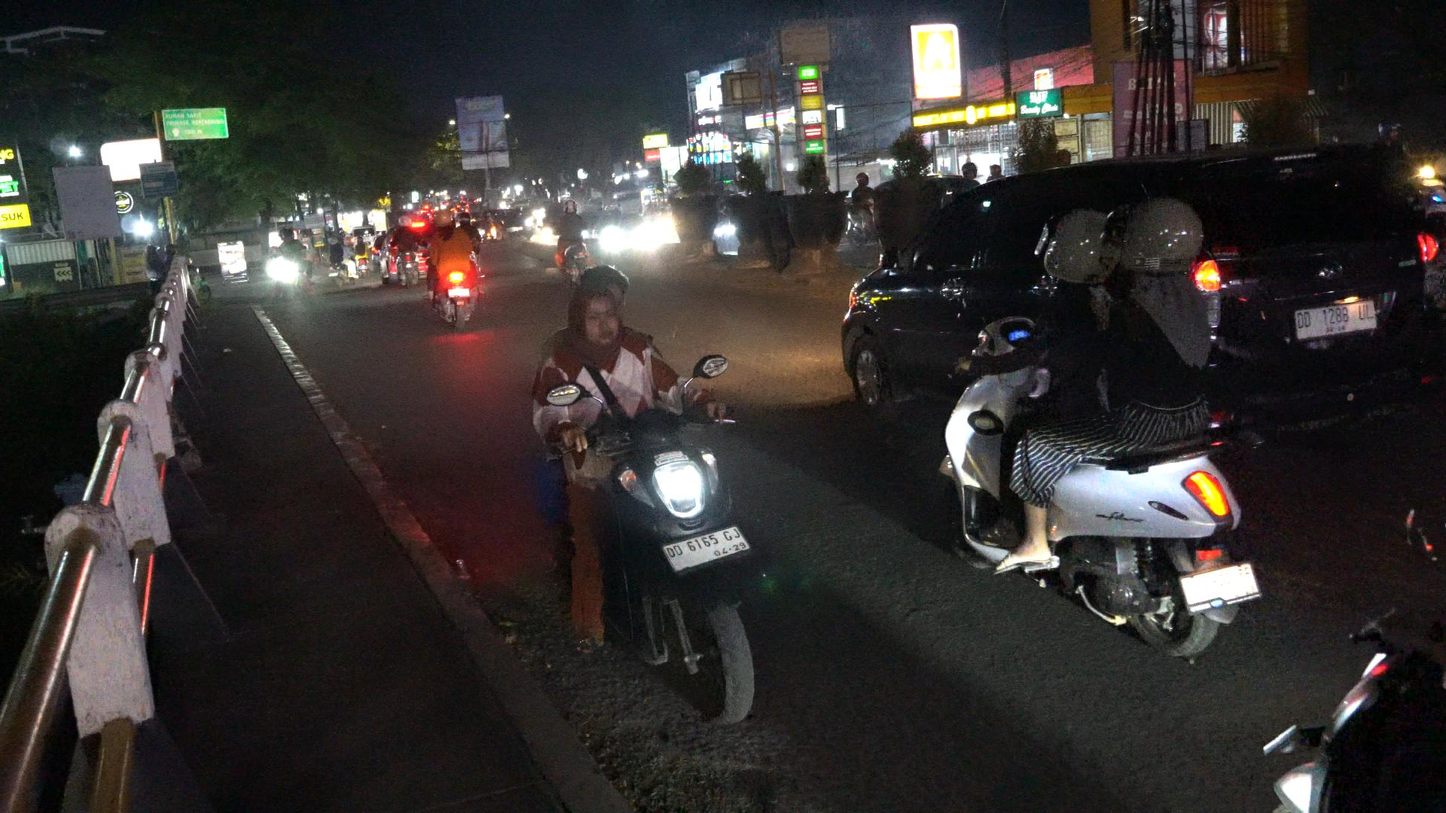number-plate: (654, 525, 751, 575)
